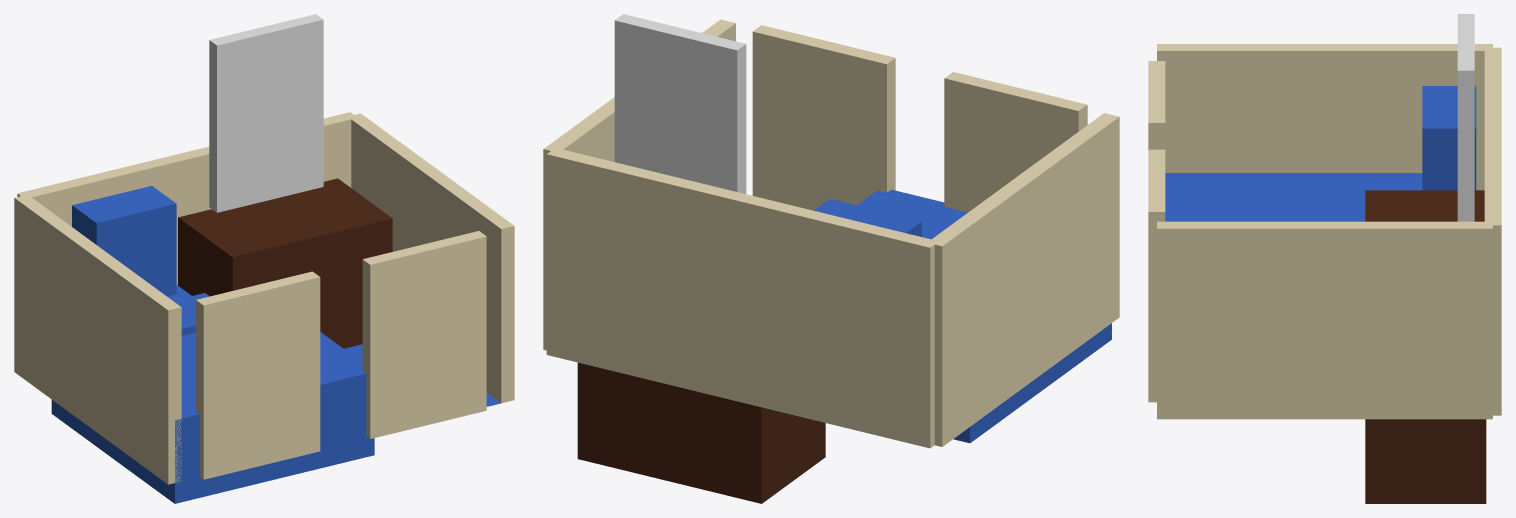
The model's file is boq_professional_50f30361-9a82-452a-883c-b801a2484ca3.obj.
3 renders of one model, left to right at view 1: azimuth 30°, elevation 25°; view 2: azimuth 150°, elevation 25°; view 3: azimuth 270°, elevation 25°, orthographic. The views are drawn at different scales.
Parts seen in each view (by area): view 1: LeftWall_tiny_bathroom, FrontWallLeft_tiny_bathroom, FrontWallRight_tiny_bathroom, Mirror_tiny_bathroom, Vanity_tiny_bathroom, RightWall_tiny_bathroom, Bathtub_tiny_bathroom, BackWall_tiny_bathroom, ToiletTank_tiny_bathroom, ToiletBase_tiny_bathroom; view 2: BackWall_tiny_bathroom, LeftWall_tiny_bathroom, FrontWallRight_tiny_bathroom, Vanity_tiny_bathroom, Mirror_tiny_bathroom, FrontWallLeft_tiny_bathroom, Bathtub_tiny_bathroom, RightWall_tiny_bathroom, ToiletTank_tiny_bathroom; view 3: RightWall_tiny_bathroom, LeftWall_tiny_bathroom, Vanity_tiny_bathroom, Bathtub_tiny_bathroom, BackWall_tiny_bathroom, ToiletTank_tiny_bathroom, Mirror_tiny_bathroom, FrontWallRight_tiny_bathroom, ToiletBase_tiny_bathroom, FrontWallLeft_tiny_bathroom.
Boxes of the visible parts, x1=… form: LeftWall_tiny_bathroom: x1=14, y1=196, x2=181, y2=484; FrontWallLeft_tiny_bathroom: x1=196, y1=271, x2=320, y2=479; FrontWallRight_tiny_bathroom: x1=362, y1=231, x2=486, y2=438; Mirror_tiny_bathroom: x1=209, y1=14, x2=323, y2=212; Vanity_tiny_bathroom: x1=178, y1=178, x2=392, y2=348; RightWall_tiny_bathroom: x1=349, y1=113, x2=514, y2=403; Bathtub_tiny_bathroom: x1=51, y1=293, x2=374, y2=503; BackWall_tiny_bathroom: x1=17, y1=112, x2=357, y2=285; ToiletTank_tiny_bathroom: x1=72, y1=185, x2=176, y2=296; ToiletBase_tiny_bathroom: x1=167, y1=285, x2=196, y2=335; BackWall_tiny_bathroom: x1=546, y1=147, x2=938, y2=448; LeftWall_tiny_bathroom: x1=927, y1=113, x2=1119, y2=446; FrontWallRight_tiny_bathroom: x1=752, y1=25, x2=895, y2=210; Vanity_tiny_bathroom: x1=577, y1=362, x2=825, y2=503; Mirror_tiny_bathroom: x1=614, y1=14, x2=746, y2=193; FrontWallLeft_tiny_bathroom: x1=944, y1=72, x2=1087, y2=212; Bathtub_tiny_bathroom: x1=857, y1=189, x2=1111, y2=443; RightWall_tiny_bathroom: x1=543, y1=19, x2=735, y2=350; ToiletTank_tiny_bathroom: x1=814, y1=199, x2=921, y2=236; RightWall_tiny_bathroom: x1=1157, y1=221, x2=1492, y2=419; LeftWall_tiny_bathroom: x1=1157, y1=44, x2=1492, y2=190; Vanity_tiny_bathroom: x1=1365, y1=190, x2=1486, y2=503; Bathtub_tiny_bathroom: x1=1165, y1=173, x2=1422, y2=221; BackWall_tiny_bathroom: x1=1484, y1=47, x2=1501, y2=415; ToiletTank_tiny_bathroom: x1=1422, y1=86, x2=1476, y2=190; Mirror_tiny_bathroom: x1=1457, y1=14, x2=1474, y2=221; FrontWallRight_tiny_bathroom: x1=1148, y1=149, x2=1165, y2=402; ToiletBase_tiny_bathroom: x1=1341, y1=179, x2=1422, y2=221; FrontWallLeft_tiny_bathroom: x1=1148, y1=61, x2=1165, y2=149.
Size of the model in its own units: 5.2 by 5.5 by 4.2.
